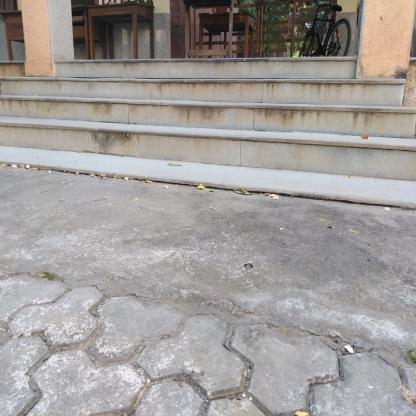stairs: (57, 54, 357, 164)
